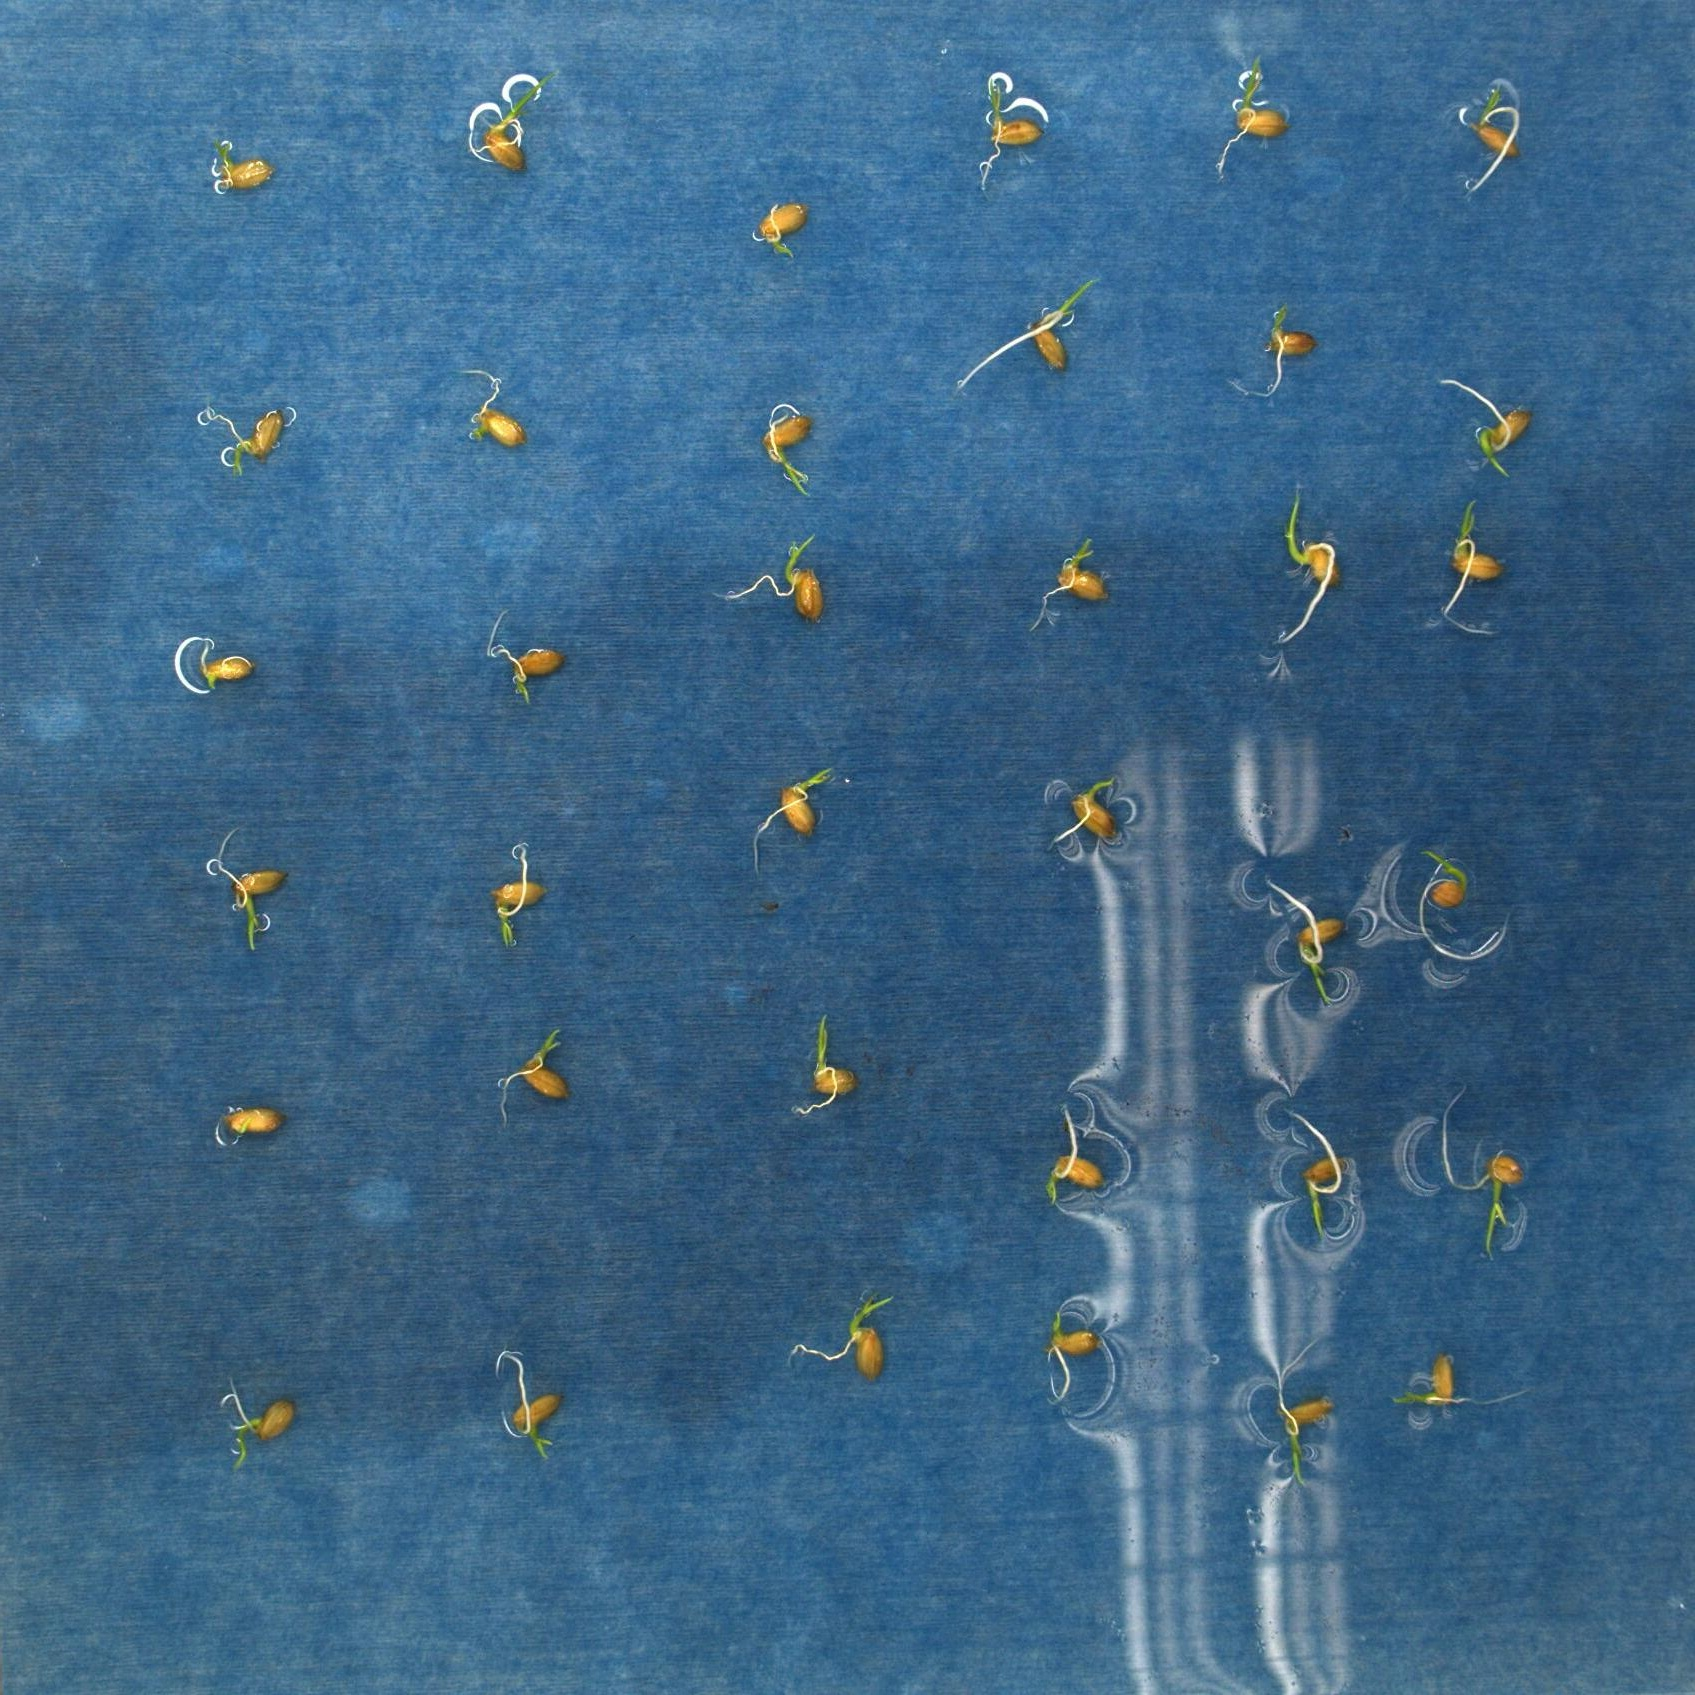not sprout: (1451, 82, 1529, 203), (1232, 303, 1319, 404), (453, 359, 532, 458), (486, 612, 567, 703), (203, 132, 275, 200), (750, 194, 806, 262), (224, 1101, 282, 1146)
sprout: (942, 272, 1118, 400), (1431, 1085, 1535, 1257), (1274, 480, 1355, 650), (1426, 497, 1515, 649), (1434, 365, 1537, 489), (1282, 1101, 1364, 1253), (714, 529, 829, 633), (1262, 1349, 1343, 1492), (210, 827, 295, 956), (1388, 1349, 1546, 1416), (750, 761, 846, 869), (1215, 47, 1295, 179), (785, 1295, 899, 1383), (490, 1021, 582, 1128), (747, 385, 827, 503), (973, 70, 1051, 192), (487, 1346, 567, 1461), (483, 840, 560, 948), (475, 71, 549, 182), (792, 1009, 858, 1121), (1024, 536, 1111, 621), (222, 1380, 298, 1475), (1040, 1097, 1107, 1205), (1045, 1301, 1108, 1409), (1048, 771, 1125, 851), (203, 400, 286, 473), (186, 627, 258, 700)
